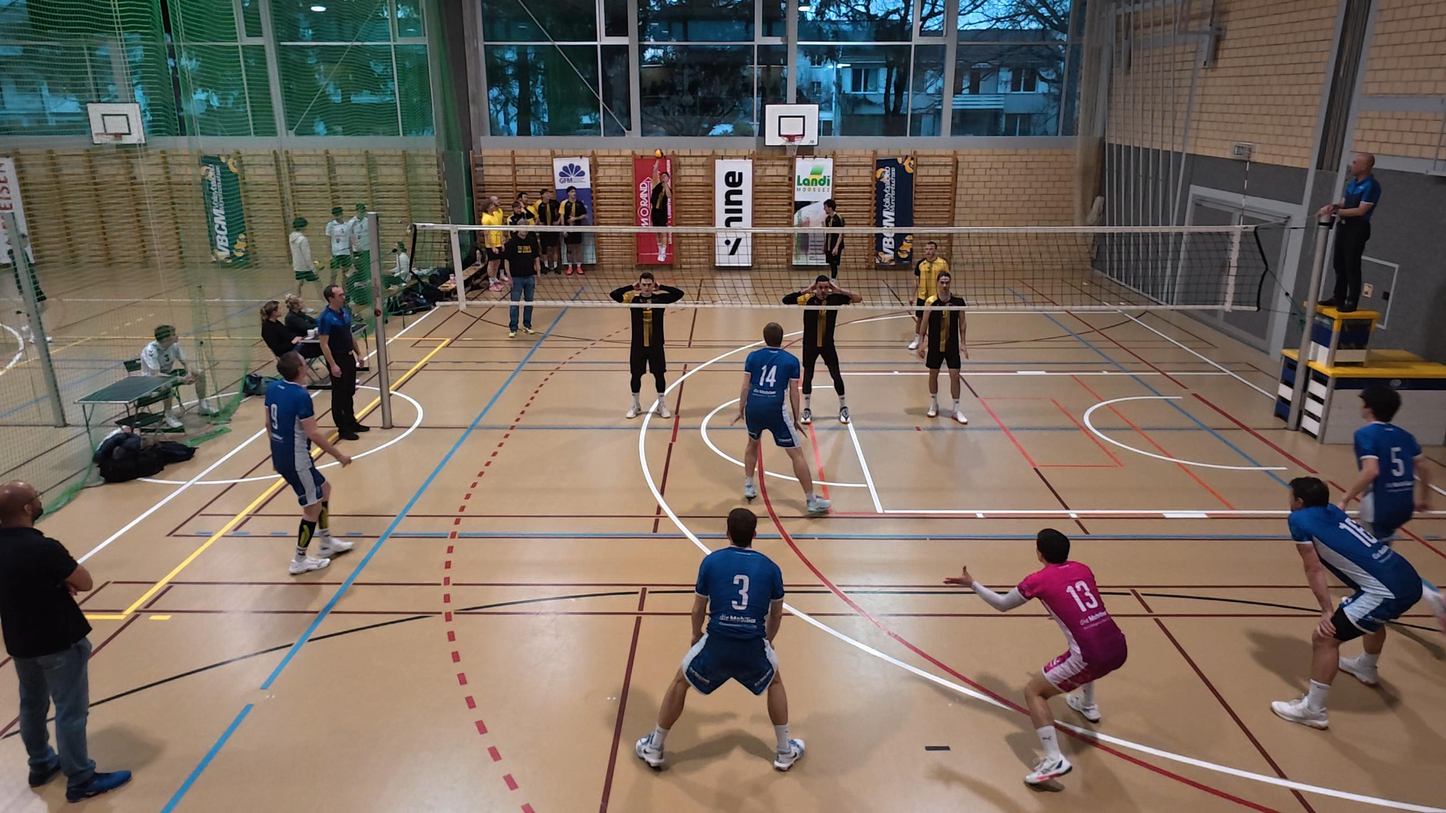battuta: (639, 151, 679, 276)
